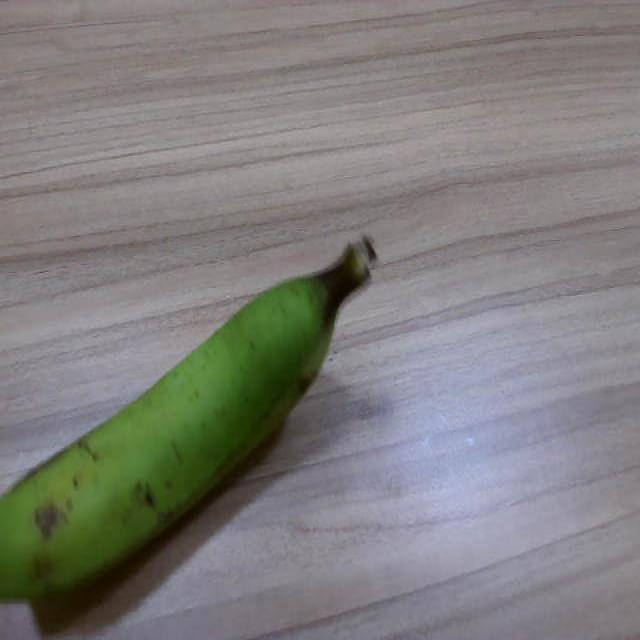Raw: (0, 211, 383, 624)
